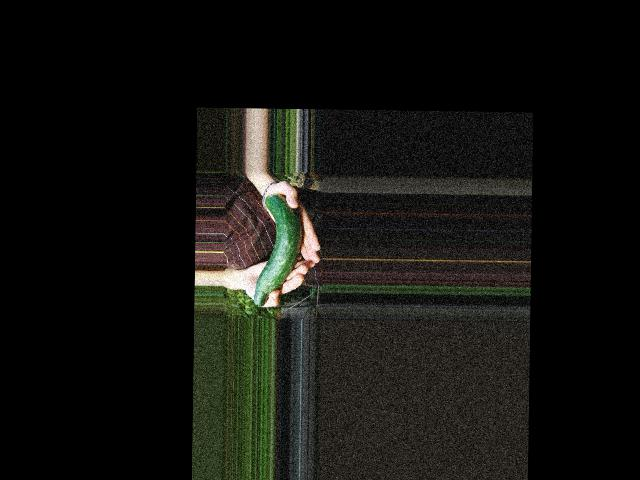cucumber: (254, 192, 302, 306)
